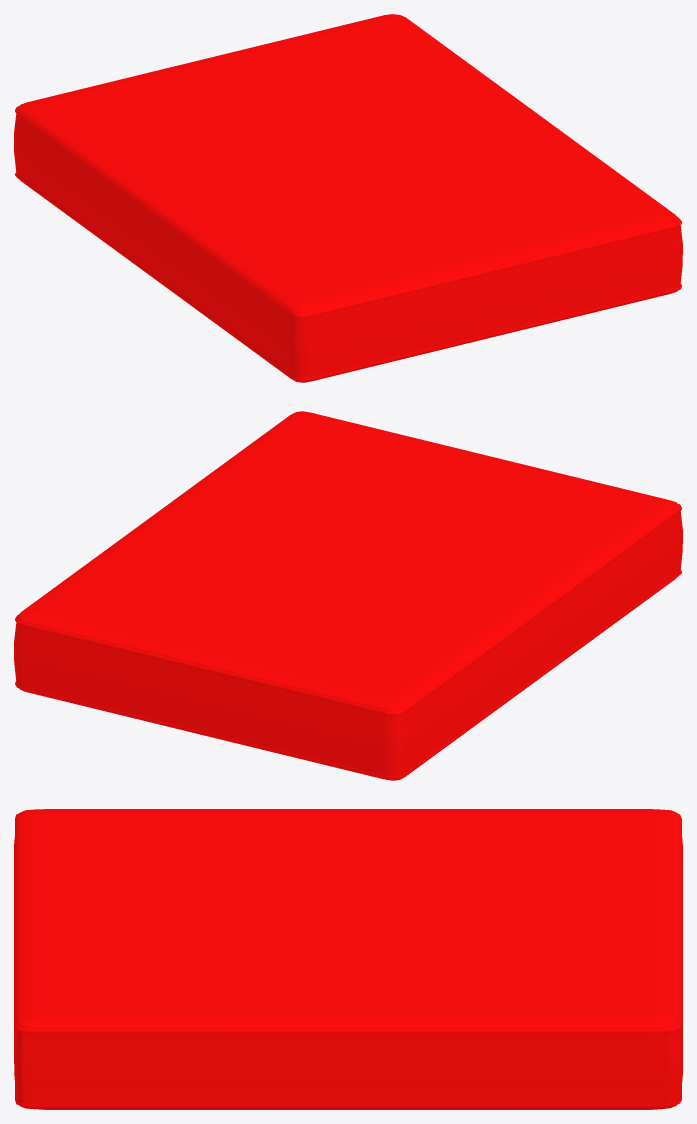
The model's file is SM_Bed_Matress.glb.
3 renders of one model, top to bottom at view 1: azimuth 30°, elevation 25°; view 2: azimuth 150°, elevation 25°; view 3: azimuth 270°, elevation 25°, orthographic. The views are drawn at different scales.
Parts seen in each view (by area): view 1: SM_Bed_Matress_LOD0; view 2: SM_Bed_Matress_LOD0; view 3: SM_Bed_Matress_LOD0.
Part boxes in pixels (x1,y1,x2,y2): SM_Bed_Matress_LOD0: (14, 14, 682, 382); SM_Bed_Matress_LOD0: (14, 411, 682, 780); SM_Bed_Matress_LOD0: (14, 809, 682, 1109).
Size of what is drawn, in the model's own units: 2.16 by 0.4052 by 2.76.
1 material, 1 textured.
